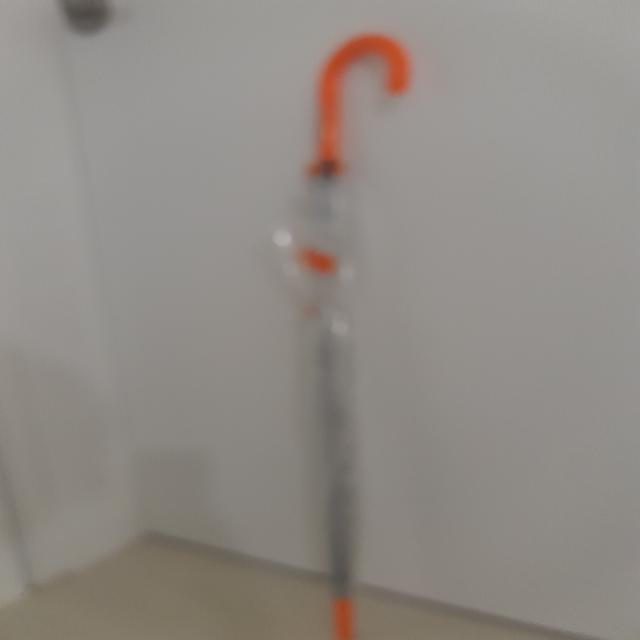umbrella: (278, 38, 414, 636)
